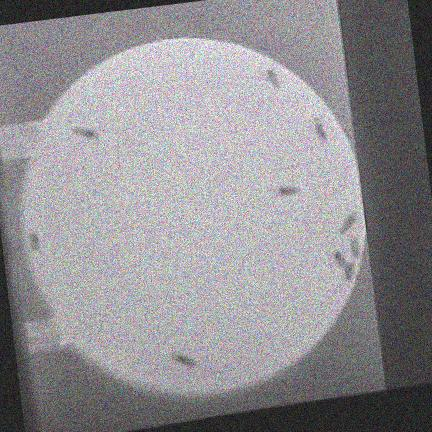fly: (171, 352, 197, 366), (340, 213, 356, 233), (74, 127, 98, 140), (314, 117, 327, 139), (267, 68, 280, 89), (335, 251, 349, 269), (275, 186, 300, 196), (29, 232, 41, 251), (350, 238, 360, 257), (345, 263, 355, 281)
